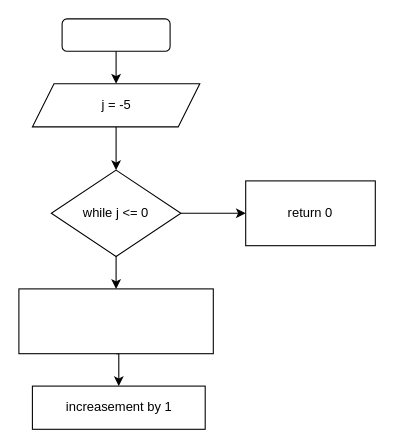
This 394x448 diagram has some shape labels left out. Here are the shapes that lost their labels. From the top down, the centre of each, then its label:
the point at 115,34: Start
the point at 115,321: Display count
